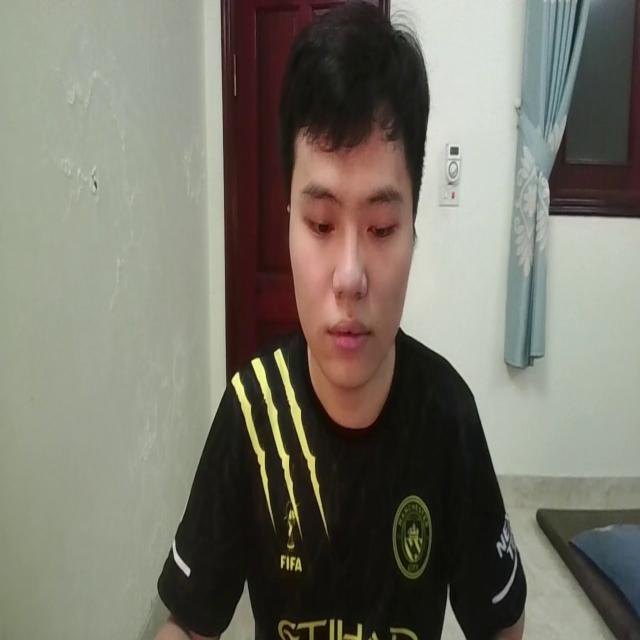student: (143, 6, 525, 640)
